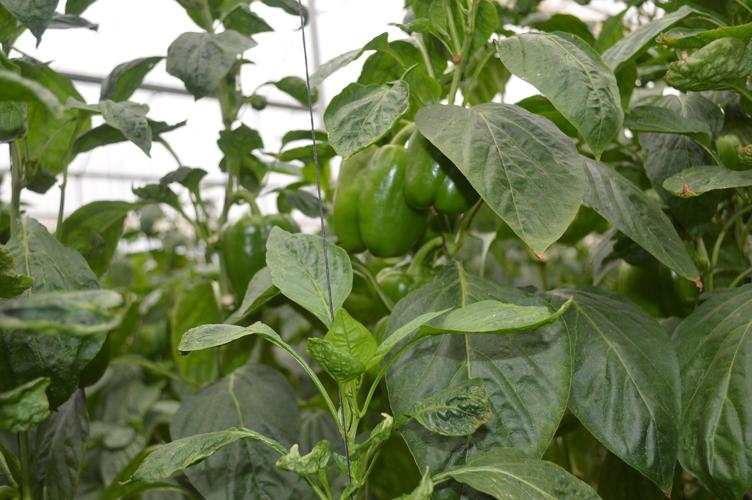BellPepper: (316, 132, 429, 262), (394, 117, 482, 236), (218, 203, 323, 297)
